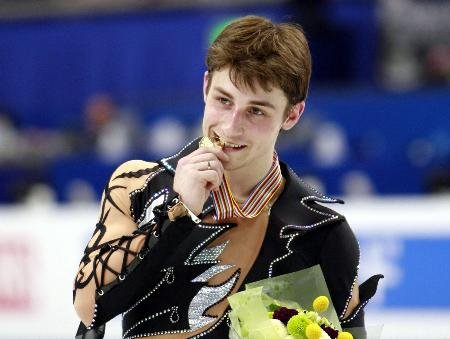face: (200, 65, 284, 169)
